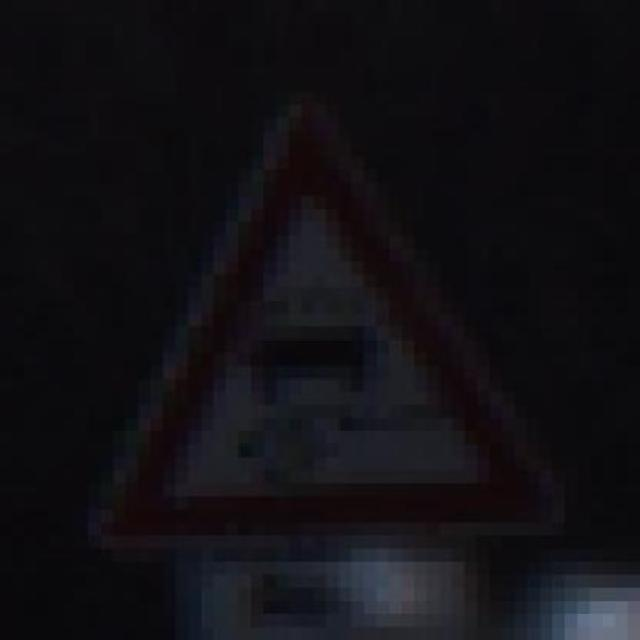Slippery Road Ahead: (64, 96, 579, 553)
